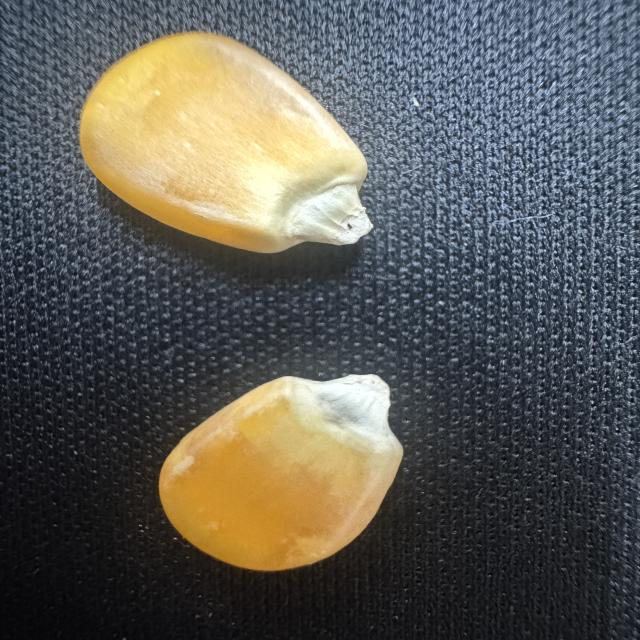Good-Seed: (72, 24, 380, 256), (154, 358, 410, 574)
